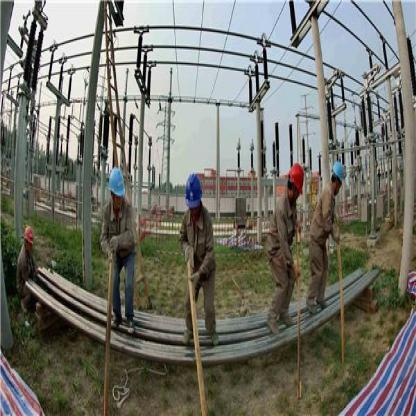helmet: (99, 162, 144, 346), (108, 166, 129, 205), (184, 170, 202, 215), (289, 158, 303, 194), (332, 156, 346, 184)
no-vest: (316, 194, 343, 259), (104, 213, 134, 269), (272, 198, 298, 258), (188, 232, 214, 282)
person: (178, 167, 220, 348), (264, 165, 303, 333), (309, 154, 346, 317), (13, 221, 41, 320)
